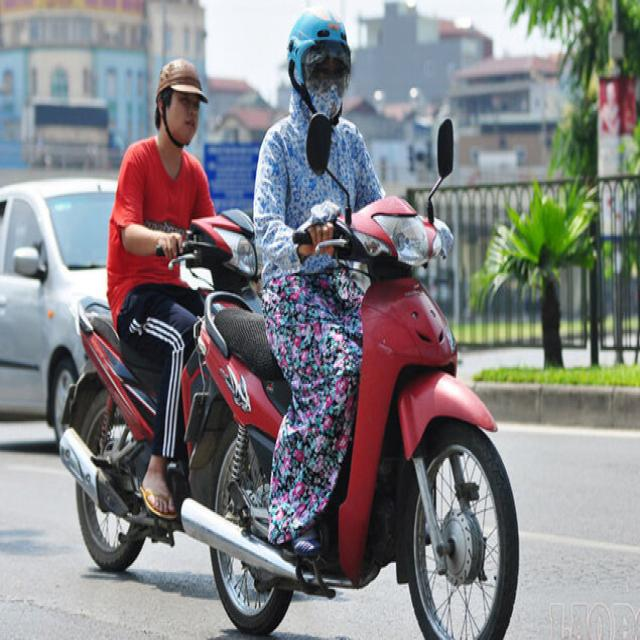Helmet: (280, 0, 358, 129), (148, 44, 210, 153)
